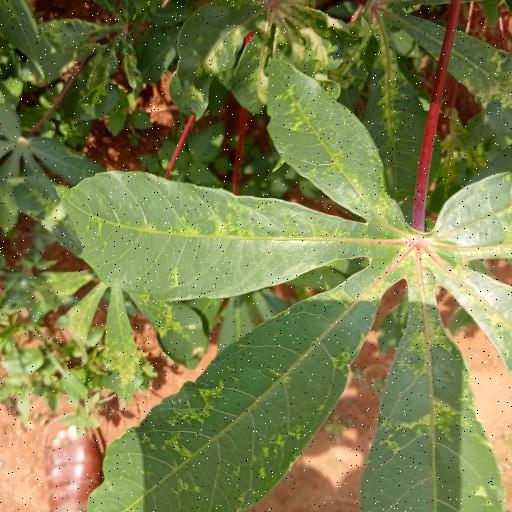Cassava_Healthy: (64, 65, 512, 512)
